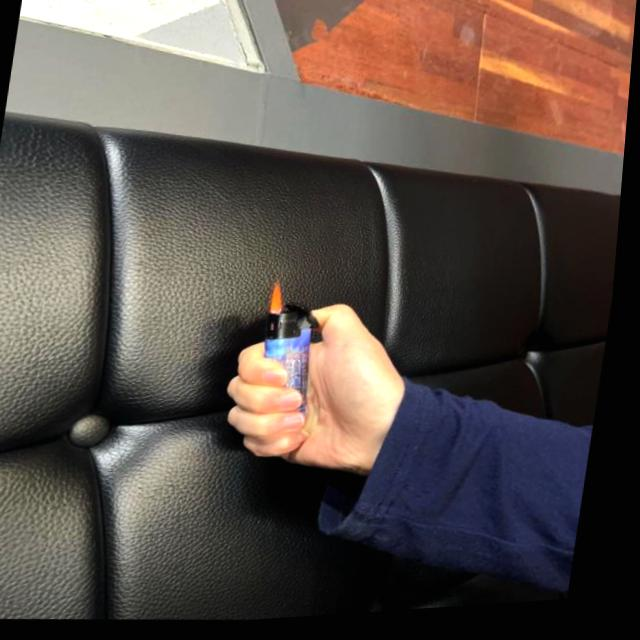helmet: (275, 284, 294, 319)
